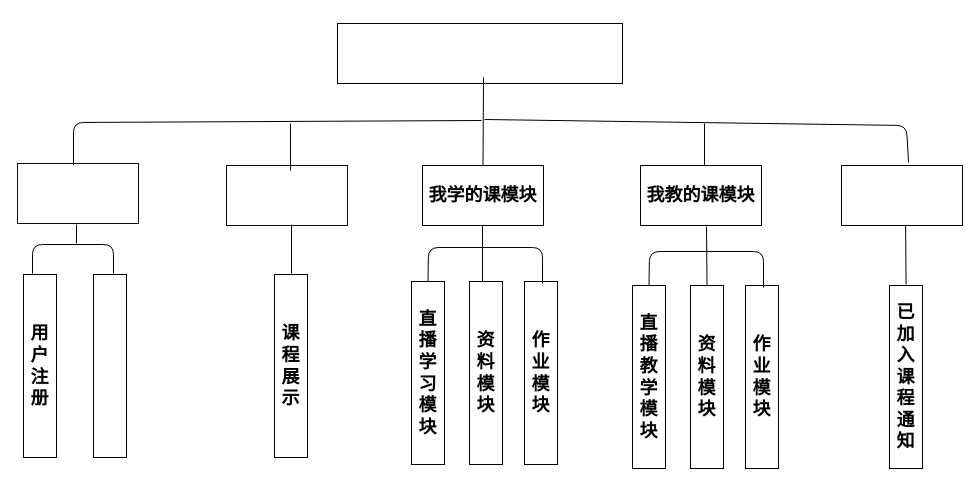
Some shapes in this 980 by 486 pixel diagram are drawn without their labels. The centre of each missing label's shape, as x and y in pixels:
"基于 Node.js的Java语言在线教学系统" belongs at pixel 479 53.
"收件箱模块" belongs at pixel 901 195.
"用户登录" belongs at pixel 109 366.
"登录/注册模块" belongs at pixel 77 193.
"课程广场模块" belongs at pixel 287 195.
